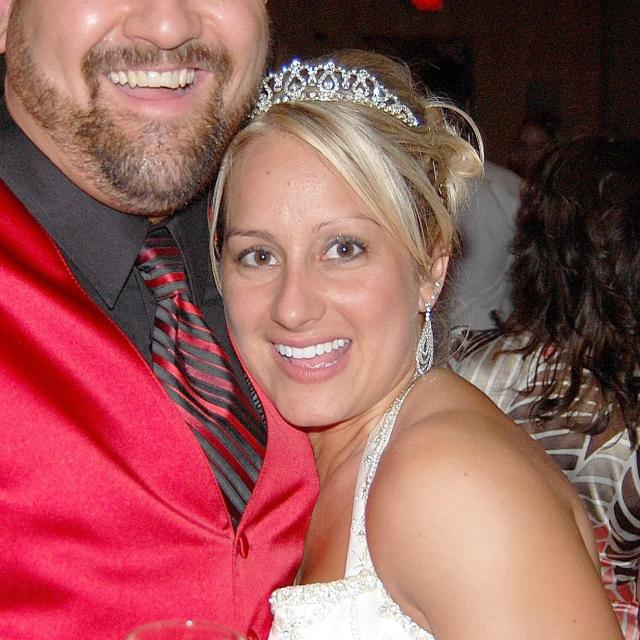no-glass: (229, 234, 371, 272)
